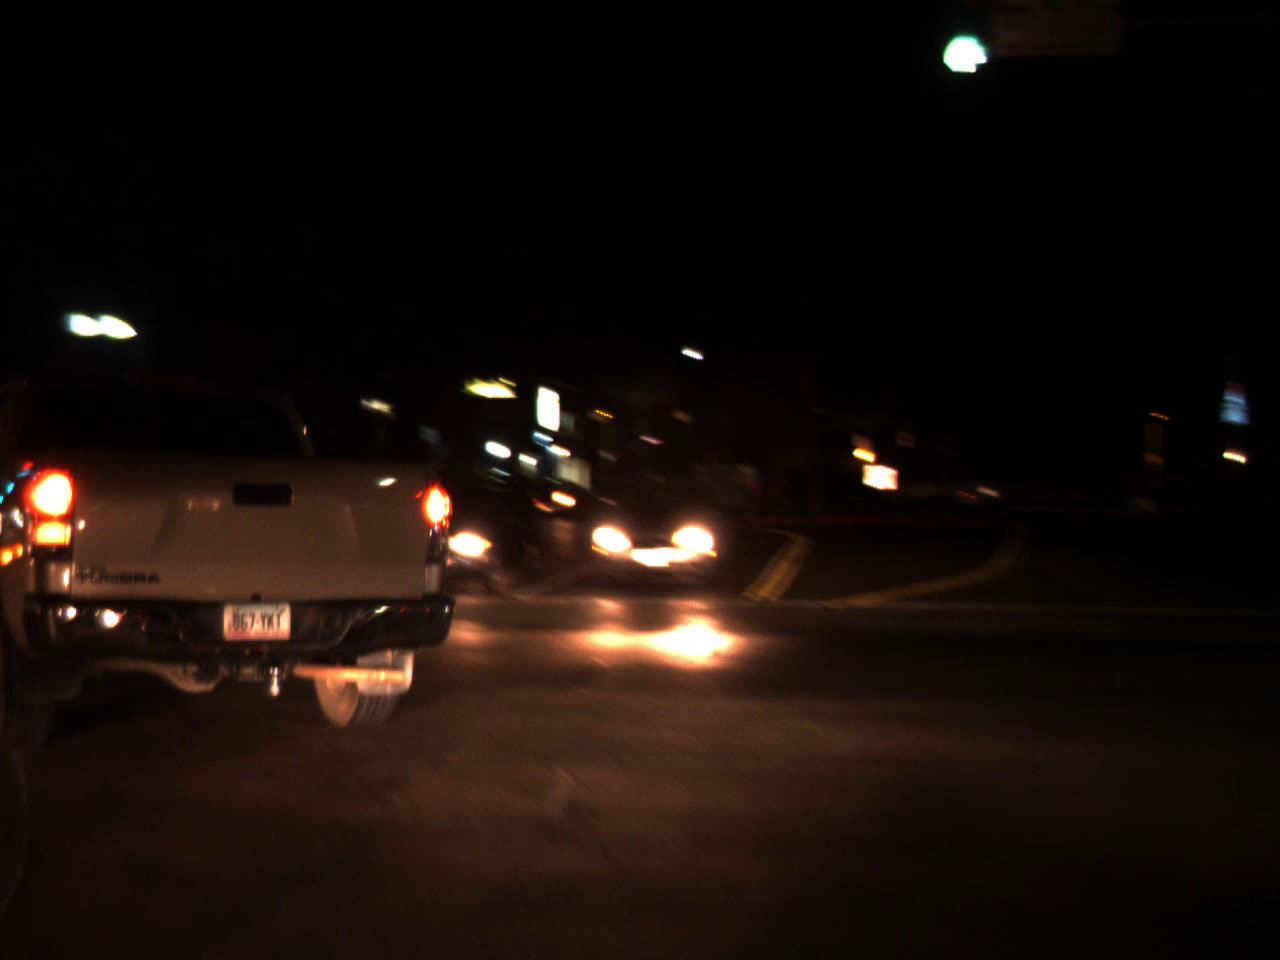go: (919, 0, 996, 89)
